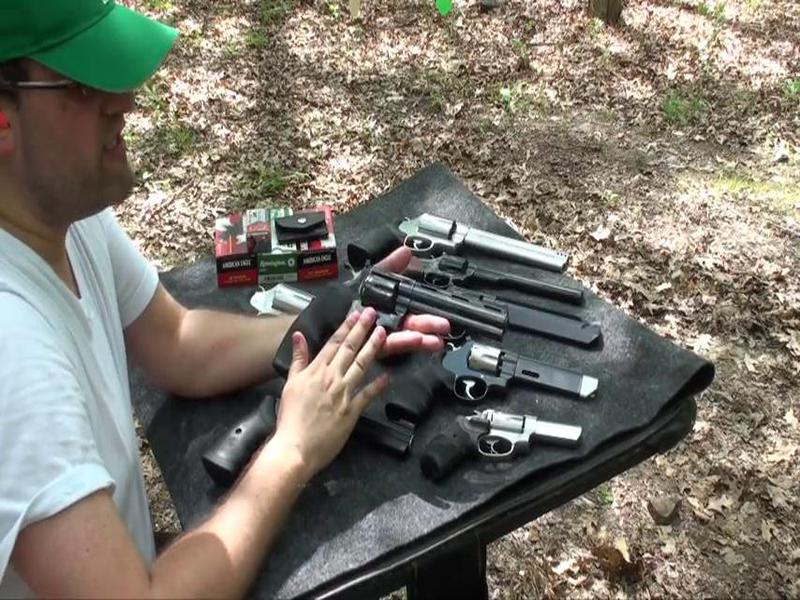Revolver: (247, 264, 510, 379)
